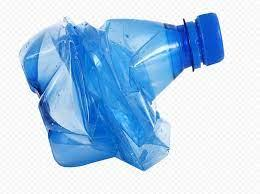plastic: (19, 15, 226, 170)
